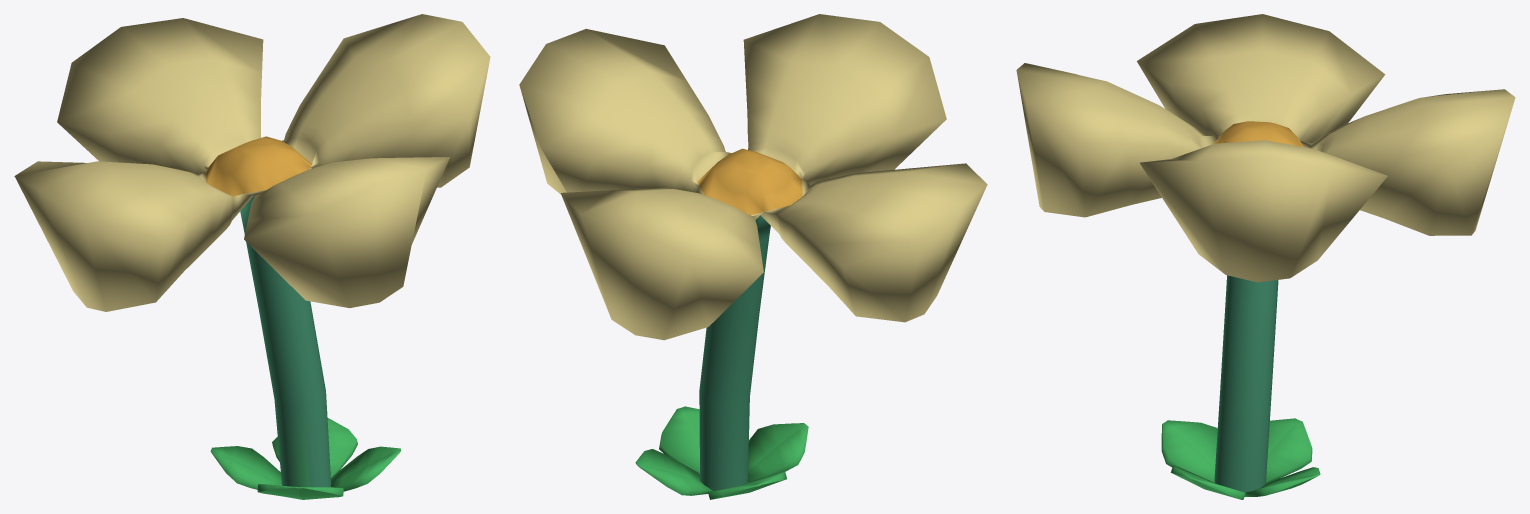
File: YellowFlower.fbx
3 renders of one model, left to right at view 1: azimuth 30°, elevation 25°; view 2: azimuth 150°, elevation 25°; view 3: azimuth 270°, elevation 25°, orthographic. The views are drawn at different scales.
Visible parts, largest first — view 1: BlueFlower.114; view 2: BlueFlower.114; view 3: BlueFlower.114.
Boxes of the visible parts, <box> form: BlueFlower.114: <box>14,14,490,499</box>; BlueFlower.114: <box>519,14,987,499</box>; BlueFlower.114: <box>1016,14,1515,499</box>.
Size of the model in its own units: 102 by 96 by 105.
